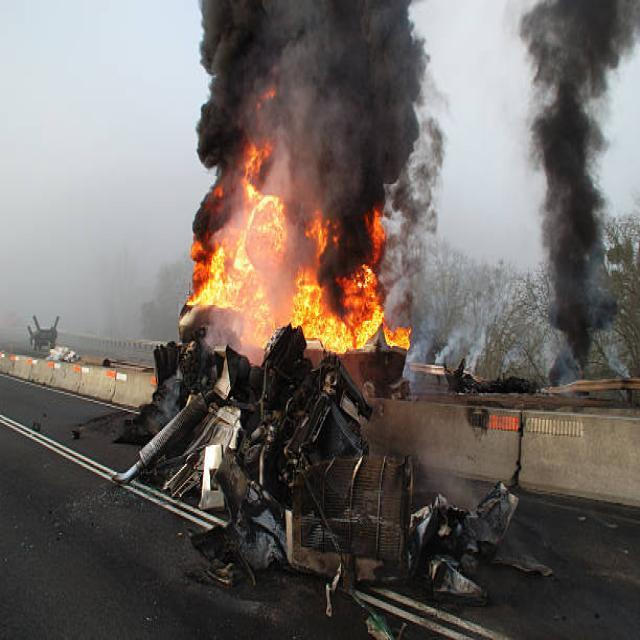Fire: (195, 93, 384, 356), (388, 312, 412, 348)
Smoke: (194, 0, 429, 229), (528, 0, 640, 396)
